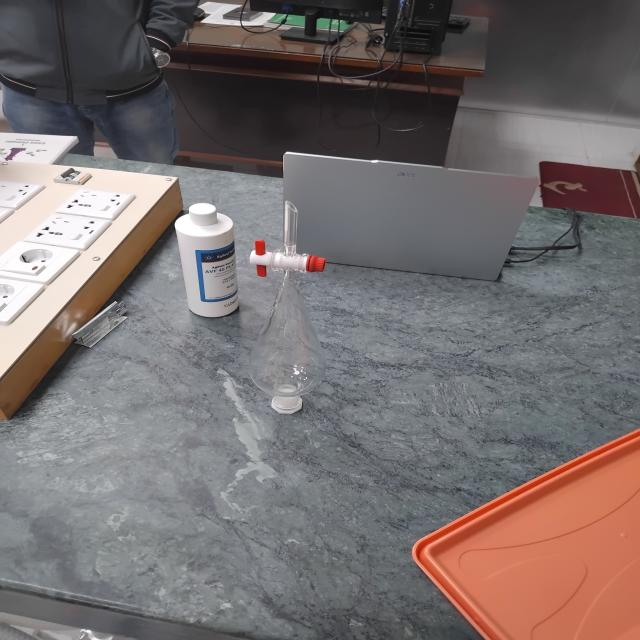Separating_Funnel: (238, 184, 348, 433)
